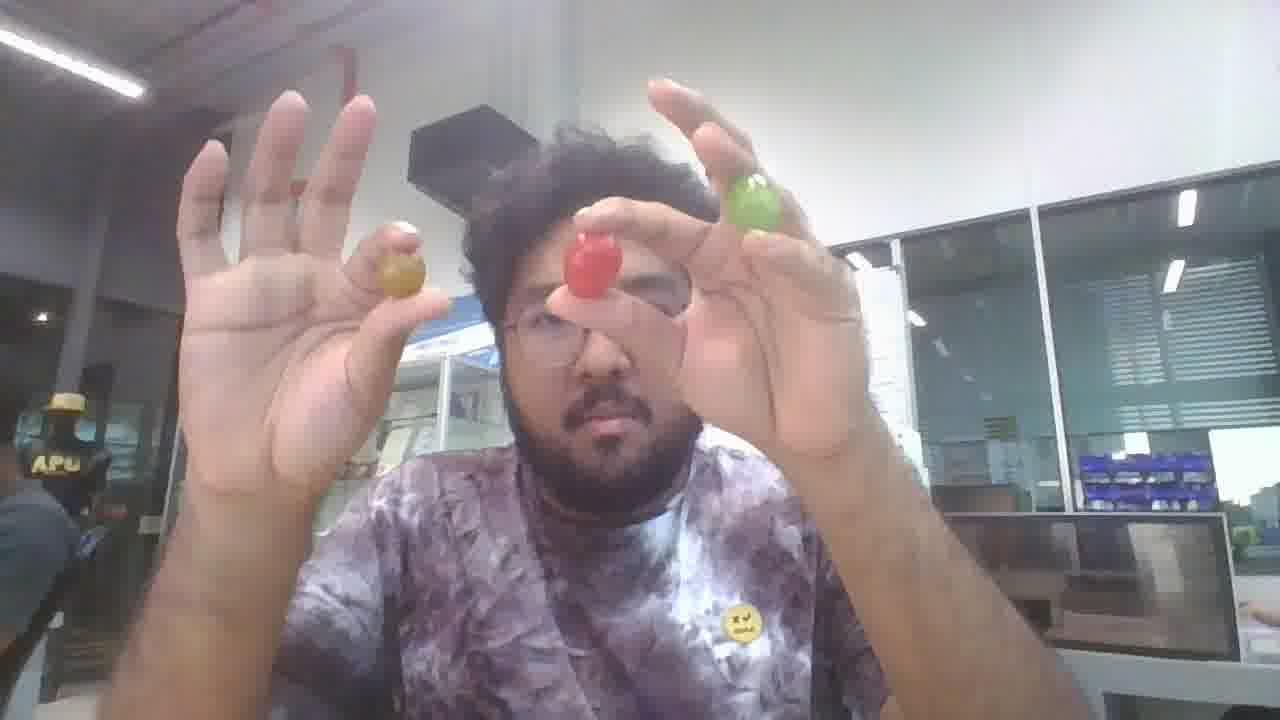green_cherry_tomato: (724, 173, 782, 231)
red_cherry_tomato: (563, 233, 622, 298)
yellow_cherry_tomato: (378, 254, 425, 297)
